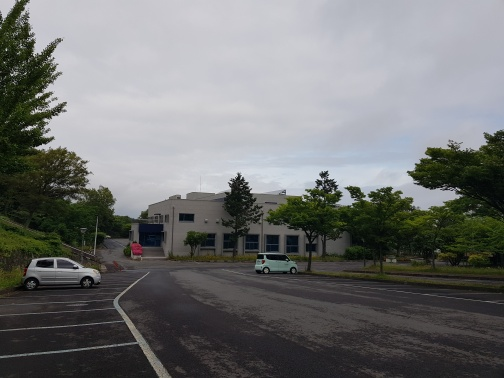College of Social Sciences: (127, 193, 356, 266)
